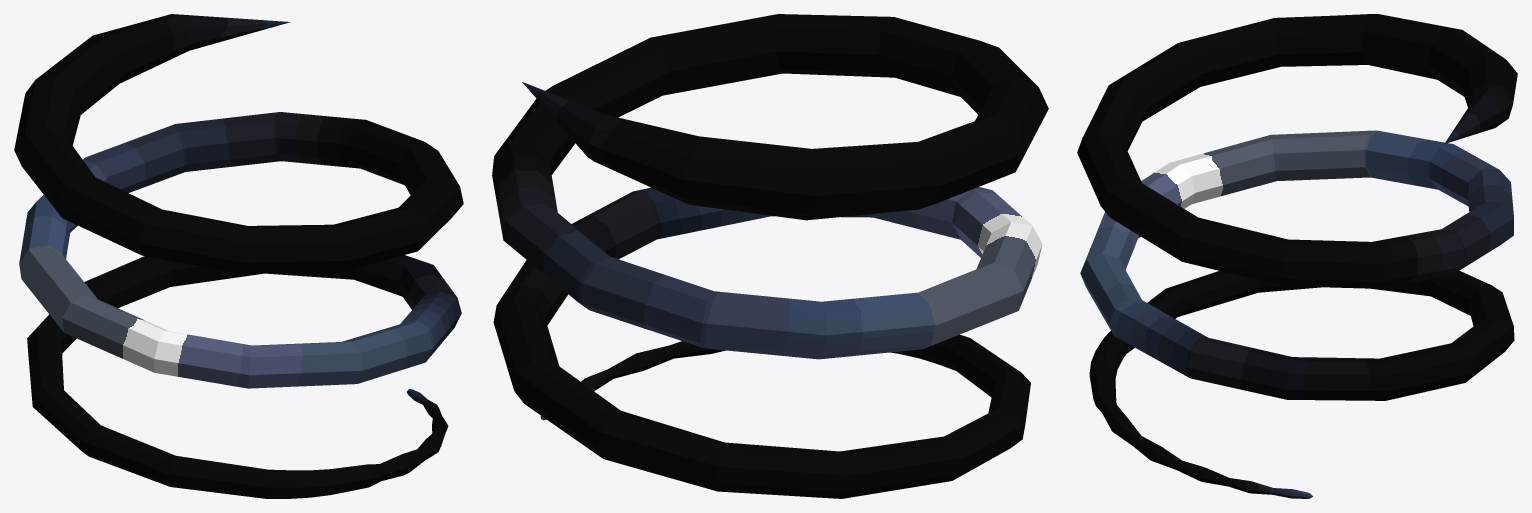
Rendered from 0028_HT_FX_ABaiShe_chanrao.glb.
3 renders of one model, left to right at view 1: azimuth 30°, elevation 25°; view 2: azimuth 150°, elevation 25°; view 3: azimuth 270°, elevation 25°, orthographic. The views are drawn at different scales.
Size of the model in its own units: 2.2 by 1.87 by 2.19.
1 material, 1 textured.
